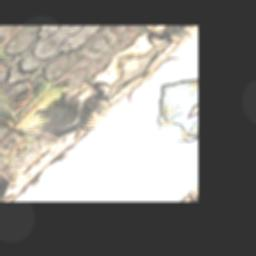Woodpecker: (34, 73, 129, 150)
